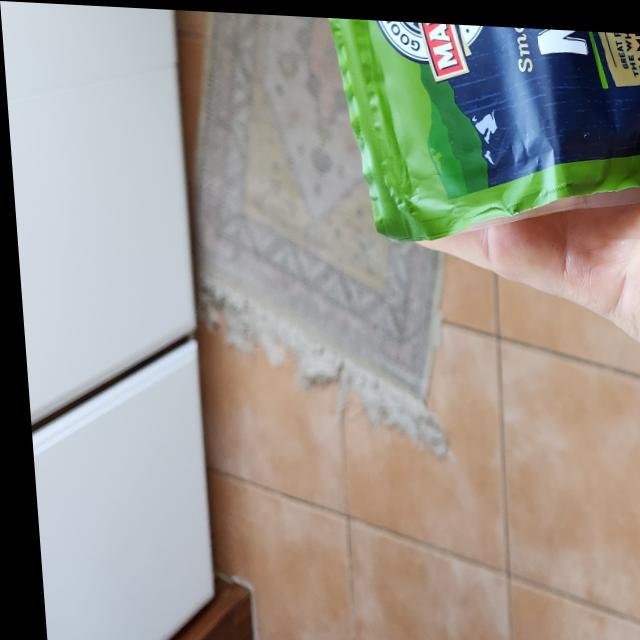cheese: (309, 13, 640, 244)
